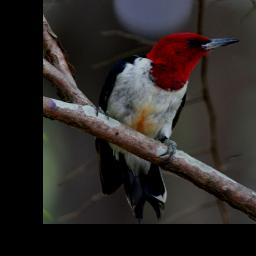Woodpecker: (95, 31, 241, 223)
